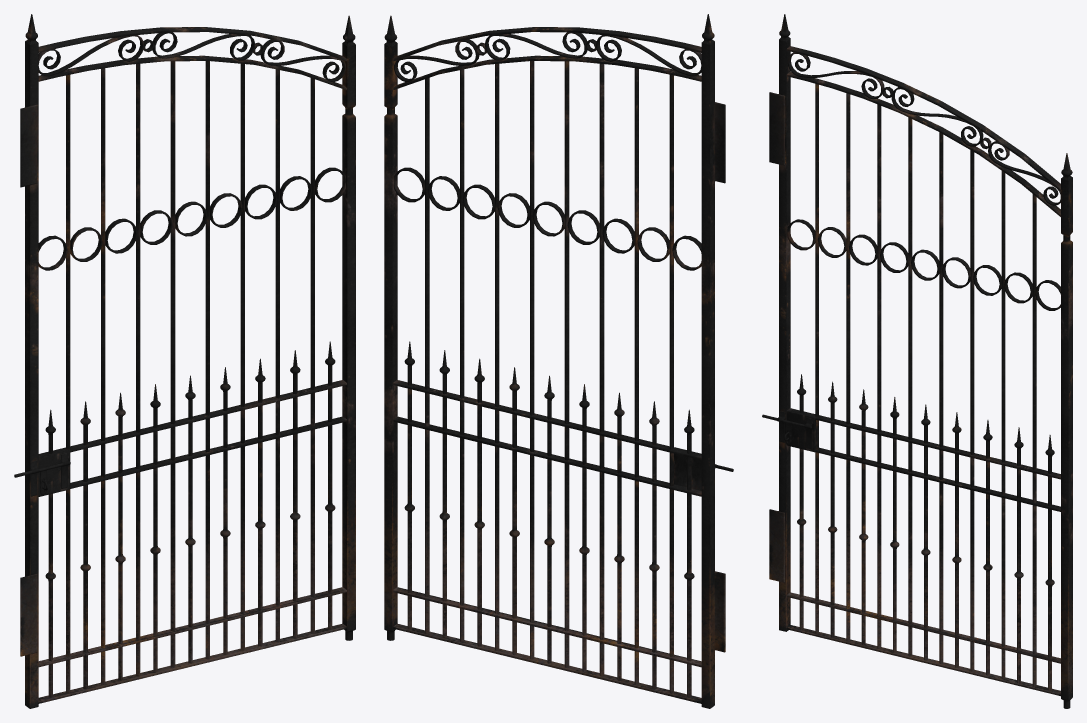
Rendered from large_iron_gate-leaf-right-v01.glb.
The picture shows the model from 3 angles, left to right: view 1: azimuth 30°, elevation 25°; view 2: azimuth 150°, elevation 25°; view 3: azimuth 330°, elevation 25°; orthographic projection. The views are drawn at different scales.
Visible parts, largest first — view 1: large_iron_gate_right_door; view 2: large_iron_gate_right_door; view 3: large_iron_gate_right_door.
Boxes of the visible parts, x1,y1,x2,y2 form: large_iron_gate_right_door: [20, 14, 355, 708]; large_iron_gate_right_door: [384, 14, 725, 708]; large_iron_gate_right_door: [769, 14, 1072, 708].
Bounding box in the file's own units: 1.5 × 2.93 × 0.0854.
1 material, 1 textured.
